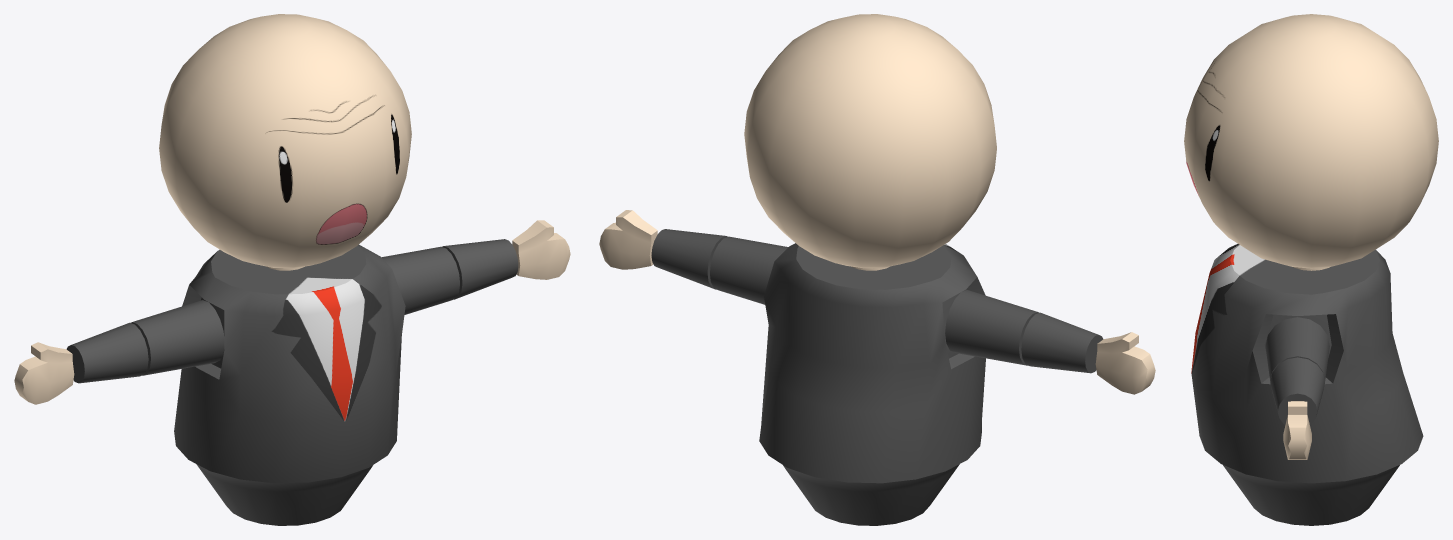
3 renders of one model, left to right at view 1: azimuth 30°, elevation 25°; view 2: azimuth 150°, elevation 25°; view 3: azimuth 270°, elevation 25°, orthographic.
Visible parts, largest first — view 1: MP_Head_object, MP_Body_object, MP_RighttUpperArm_object, MP_RightLowerrArm_object, MP_LeftUpperArm_object, MP_LeftLowerArm_object, MP_RightHand_object, MP_LeftHand_object; view 2: MP_Head_object, MP_Body_object, MP_RighttUpperArm_object, MP_RightLowerrArm_object, MP_LeftUpperArm_object, MP_LeftLowerArm_object, MP_RightHand_object, MP_LeftHand_object; view 3: MP_Head_object, MP_Body_object, MP_LeftUpperArm_object, MP_LeftLowerArm_object, MP_LeftHand_object.
Part boxes in pixels (x1,y1,x2,y2): MP_Head_object: (159,14,411,270); MP_Body_object: (174,244,405,525); MP_RighttUpperArm_object: (130,300,224,375); MP_RightLowerrArm_object: (66,322,148,383); MP_LeftUpperArm_object: (382,246,459,314); MP_LeftLowerArm_object: (442,239,518,299); MP_RightHand_object: (14,342,74,404); MP_LeftHand_object: (512,220,570,279); MP_Head_object: (744,14,996,270); MP_Body_object: (759,243,985,525); MP_RighttUpperArm_object: (945,290,1039,365); MP_RightLowerrArm_object: (1021,312,1103,373); MP_LeftUpperArm_object: (710,236,788,304); MP_LeftLowerArm_object: (651,229,727,289); MP_RightHand_object: (1095,332,1155,394); MP_LeftHand_object: (599,210,657,269); MP_Head_object: (1184,14,1438,270); MP_Body_object: (1191,244,1423,525); MP_LeftUpperArm_object: (1265,317,1329,380); MP_LeftLowerArm_object: (1270,357,1324,424); MP_LeftHand_object: (1283,401,1311,459).
Size of the model in its own units: 11.48 by 9.52 by 4.64.
2 materials, 2 textured.
